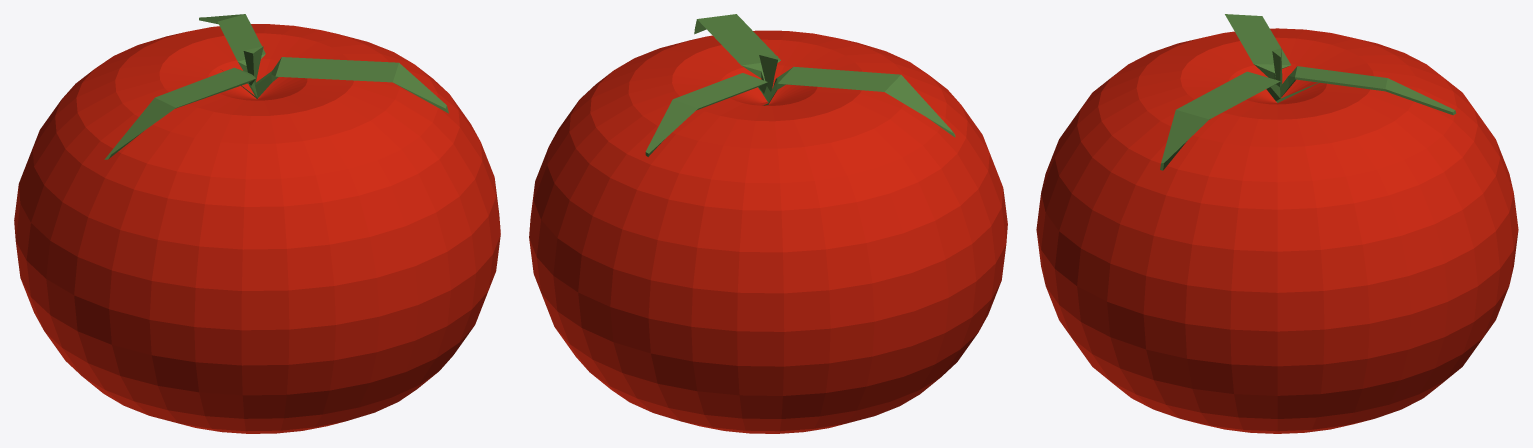
Rendered from tomato.fbx.
The picture shows the model from 3 angles, left to right: view 1: azimuth 30°, elevation 25°; view 2: azimuth 150°, elevation 25°; view 3: azimuth 270°, elevation 25°; orthographic projection.
Visible parts, largest first — view 1: Sphere; view 2: Sphere; view 3: Sphere.
Part boxes in pixels (<box>): Sphere: <box>14,14,500,433</box>; Sphere: <box>529,14,1007,433</box>; Sphere: <box>1036,14,1518,433</box>.
Size of the model in its own units: 200 by 159 by 200.
Materials: 1 (1 with a texture image).
